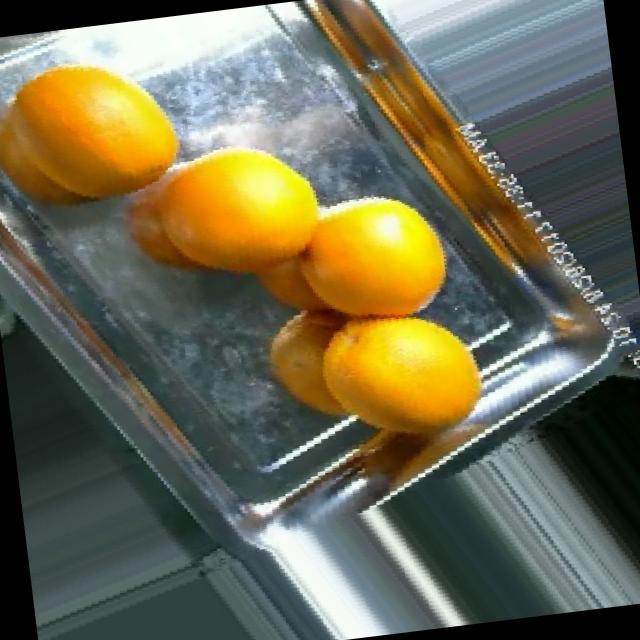Fruit: (262, 164, 478, 359)
